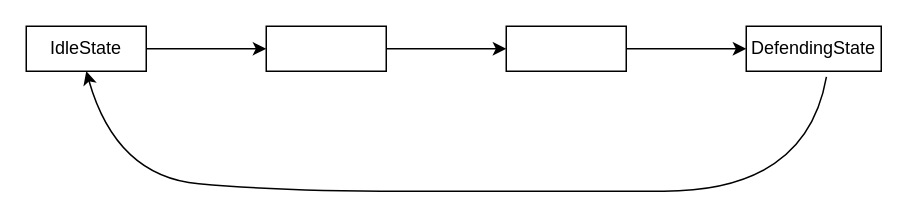
The diagram is 908 pixels wide and 218 high, and some of its shapes have lost their labels. The box of each missing label's shape, as (x1, y1, x2, y2) in pixels:
AttackingState: (265, 25, 386, 71)
ChargingState: (505, 25, 626, 71)
